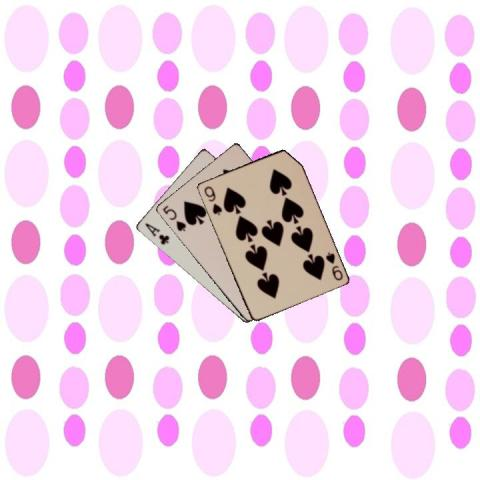5s: (160, 202, 188, 233)
9s: (201, 183, 223, 216), (323, 249, 344, 282)
Ac: (142, 220, 171, 246)
